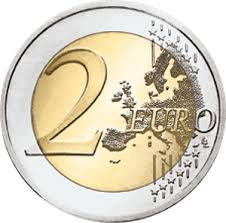eur002: (1, 1, 225, 223)
